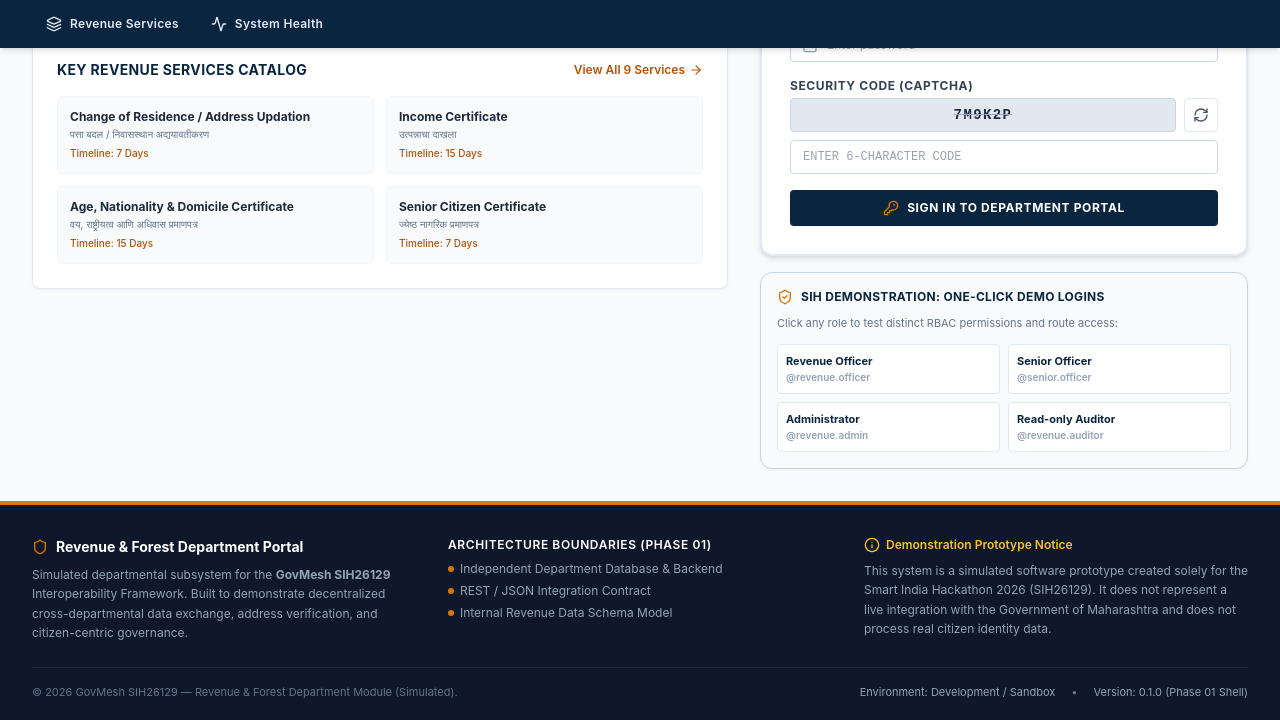
Test: Phase 04: Officer Address Verification Workflow UI › renders application scrutiny workspace after login
The image size is (1280, 720).
(page scrolled)
Click the text "Revenue Officer" at point(829, 360), box x1=786 y1=354 x2=873 y2=368
(page scrolled)
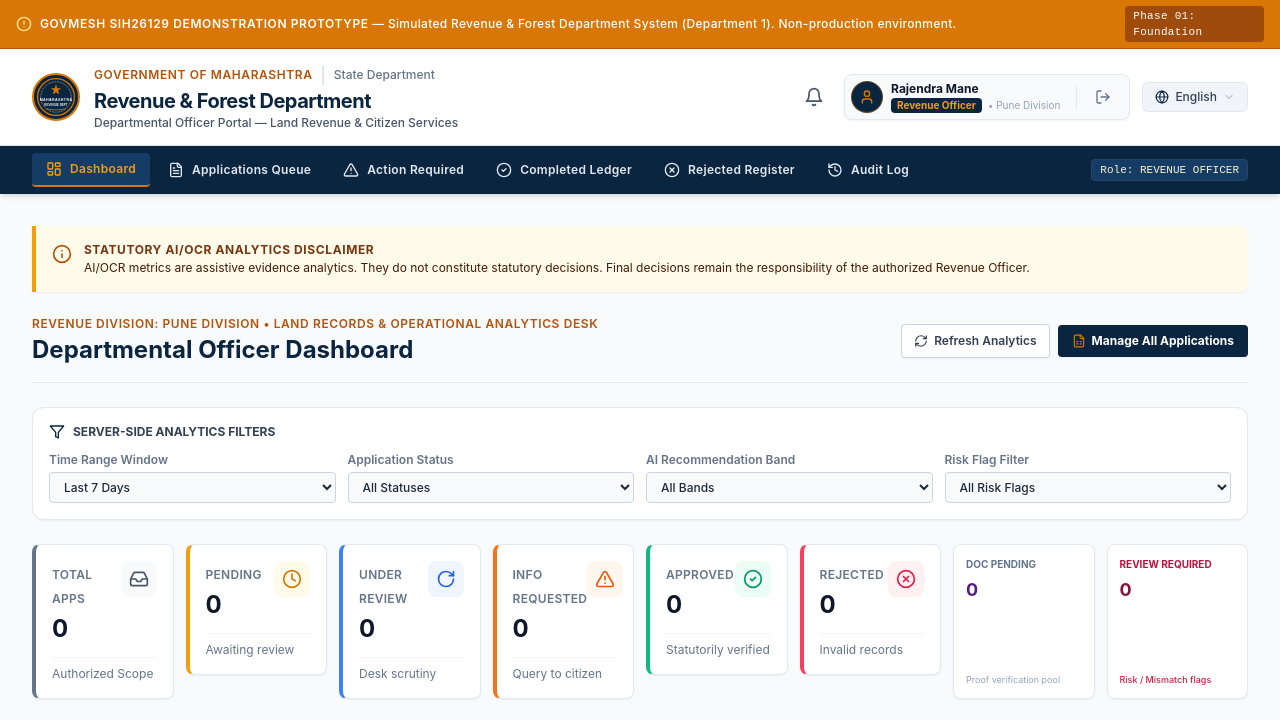
Expected: the heading "Departmental Officer Dashboard" is shown, x1=32 y1=335 x2=413 y2=364
